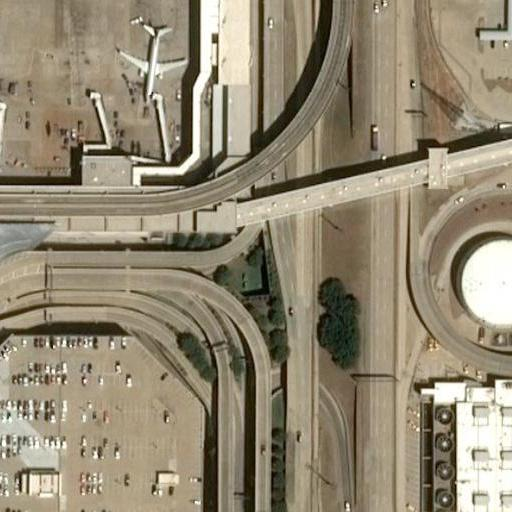Aircraft: (116, 20, 190, 101)
